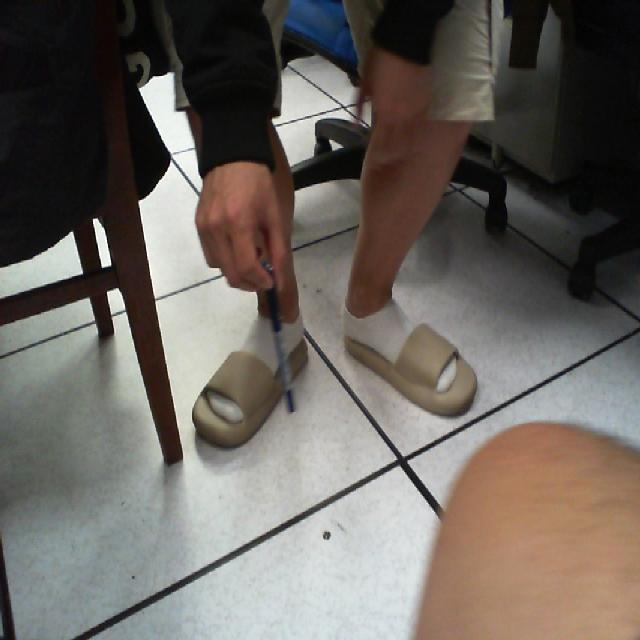Pen: (234, 239, 312, 439)
